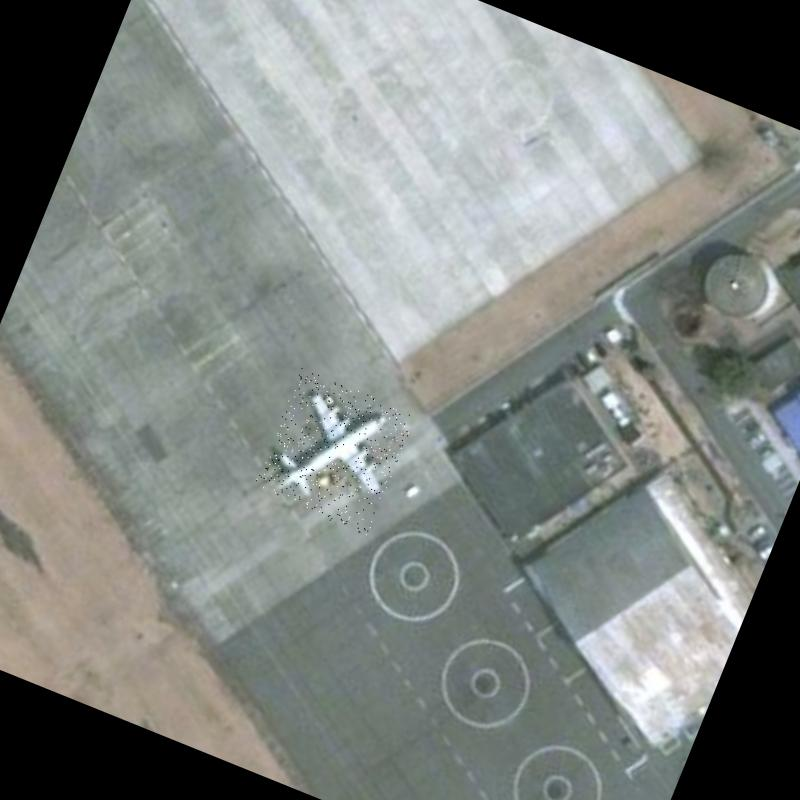A9: (252, 368, 416, 536)
